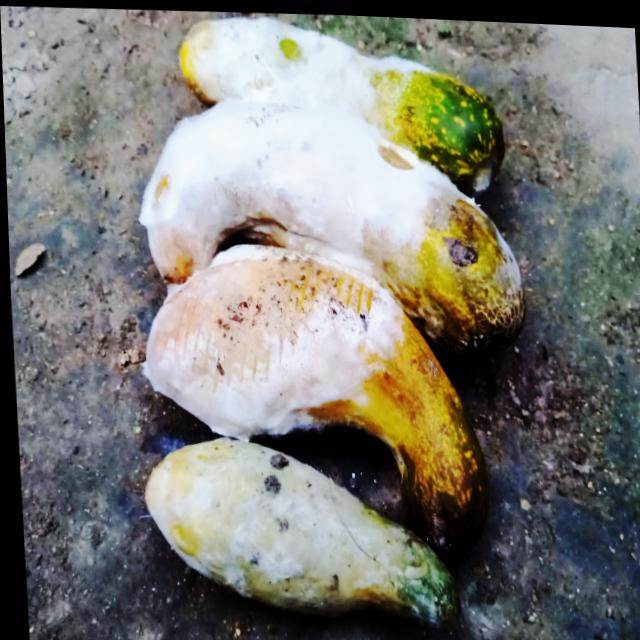Pythium-Fruit-Rot: (127, 89, 522, 302), (137, 232, 404, 447), (138, 430, 416, 602), (182, 8, 431, 116)
